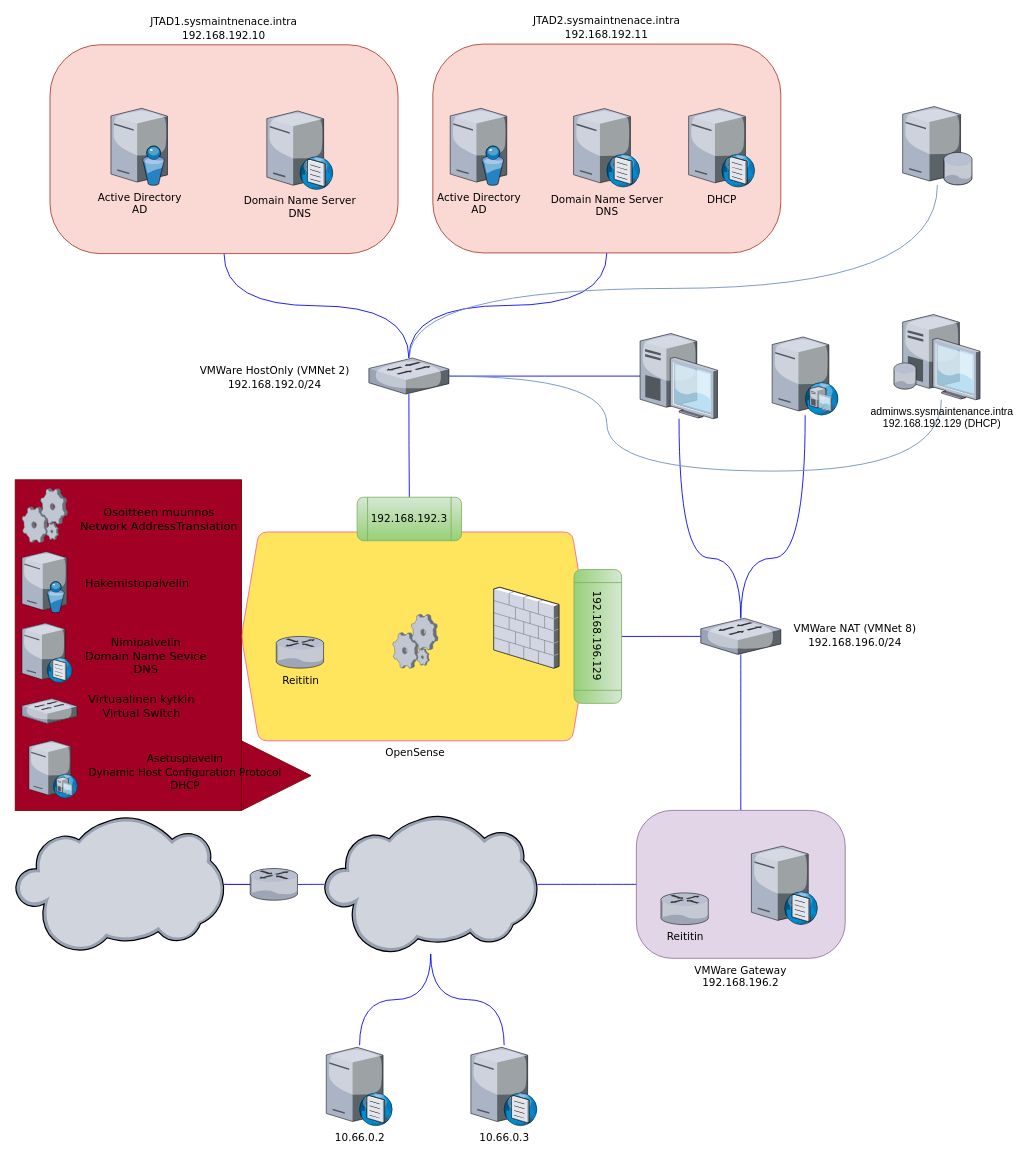
This 1027x1160 diagram has some shape labels left out. The shapes that lost their labels are listed below. From the top down, each one's centre as x and y in pixels, then its label:
At point 937,145: "Ubuntupg.sysmaintenance.intra 192.168.192.128".
At point 678,375: "VMWare Host 192.168.196.1 192.168.192.1".
At point 805,376: "VMWare DHCP 192.168.196.254".
At point 415,641: "NAT".
At point 526,627: "Palomuuri".
At point 119,884: "Internet".
At point 430,884: "Luokan verkko 10.66.0.0/16".
At point 784,884: "DNS".
